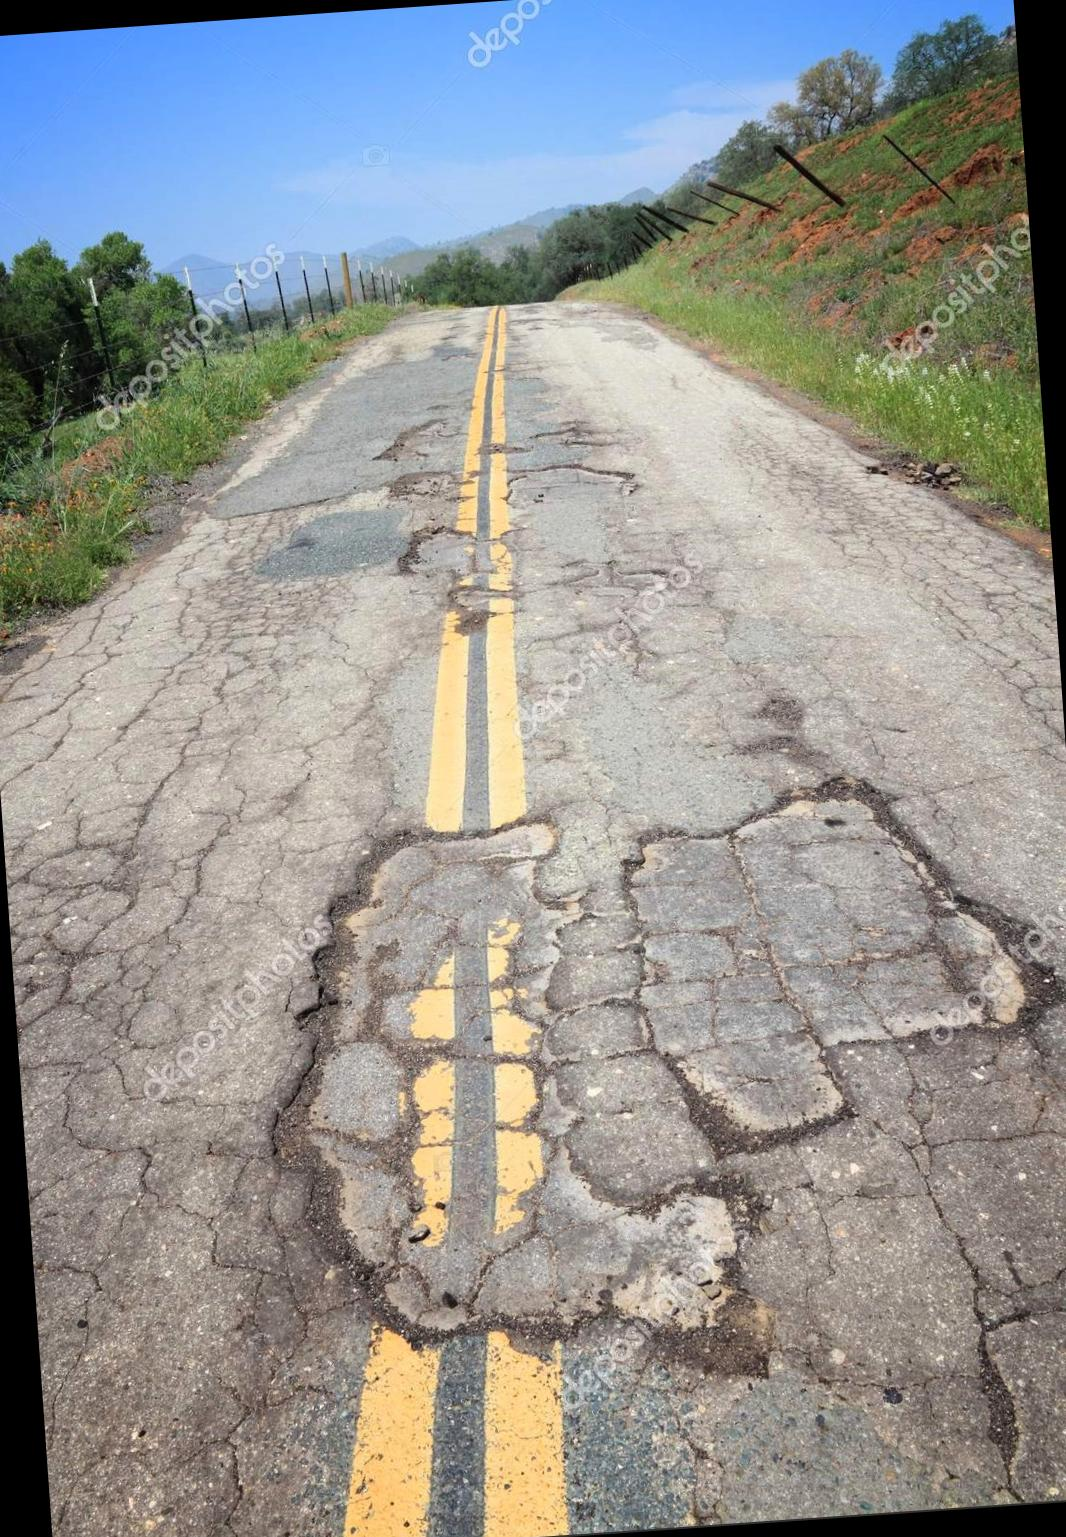pothole: (237, 751, 790, 1433), (565, 711, 1066, 1220), (350, 380, 701, 640)
